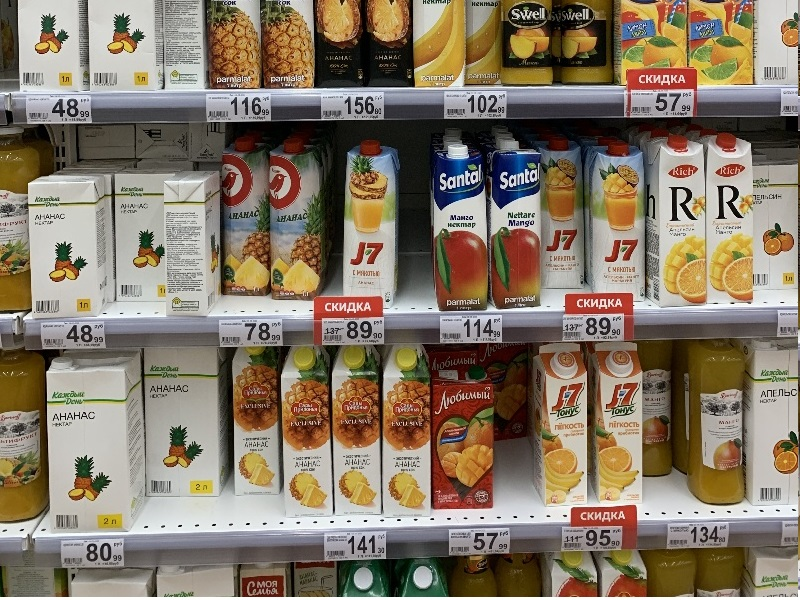juice: (334, 141, 414, 315), (640, 130, 716, 313), (317, 342, 390, 521), (424, 143, 497, 320), (258, 139, 334, 305), (424, 365, 508, 515), (273, 346, 340, 524), (480, 140, 549, 311), (381, 342, 443, 528), (583, 139, 655, 297), (530, 340, 594, 509), (525, 138, 594, 293), (227, 340, 294, 496), (701, 129, 758, 311), (587, 345, 648, 505)
